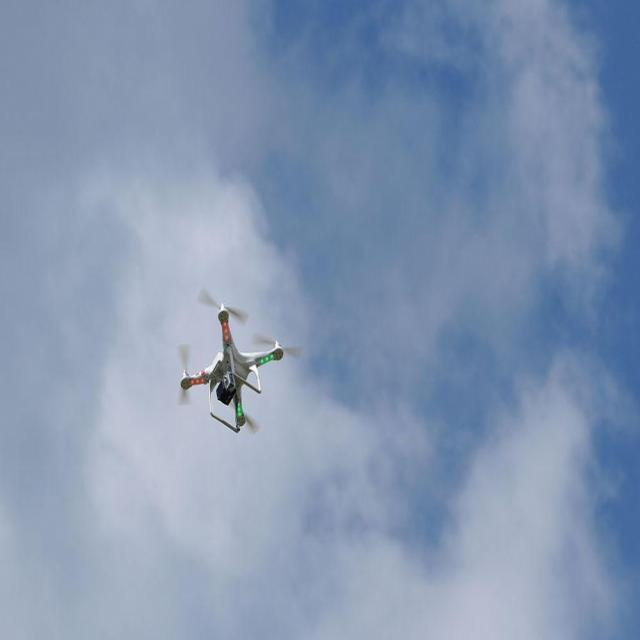UAV: (180, 306, 286, 436)
